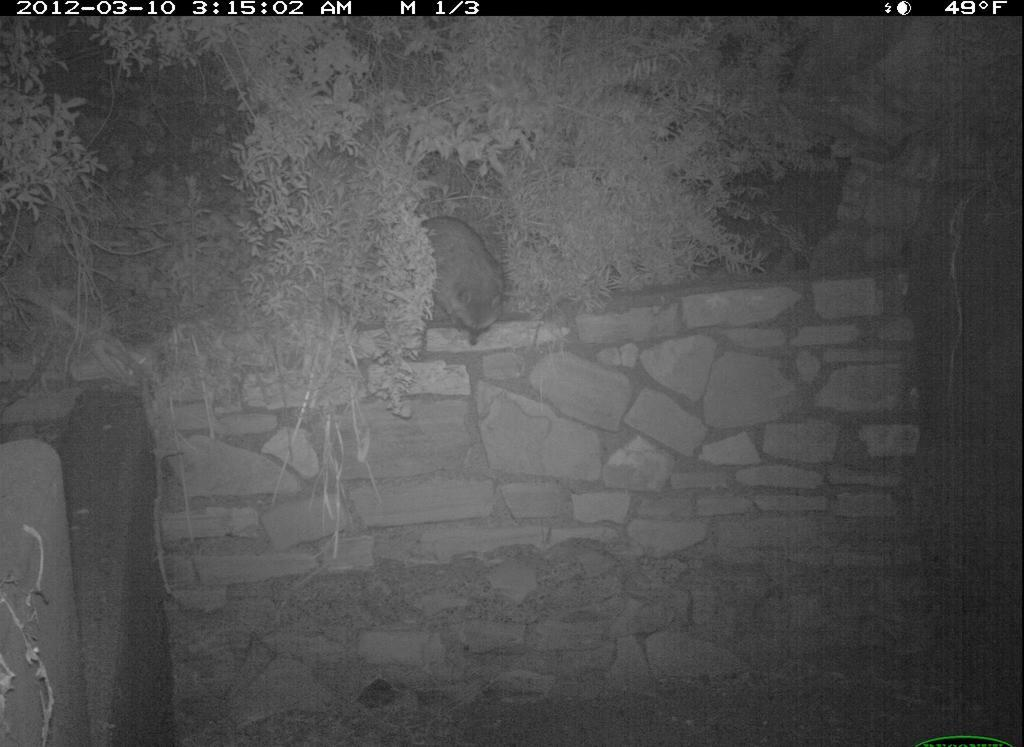raccoon: (404, 212, 515, 355)
